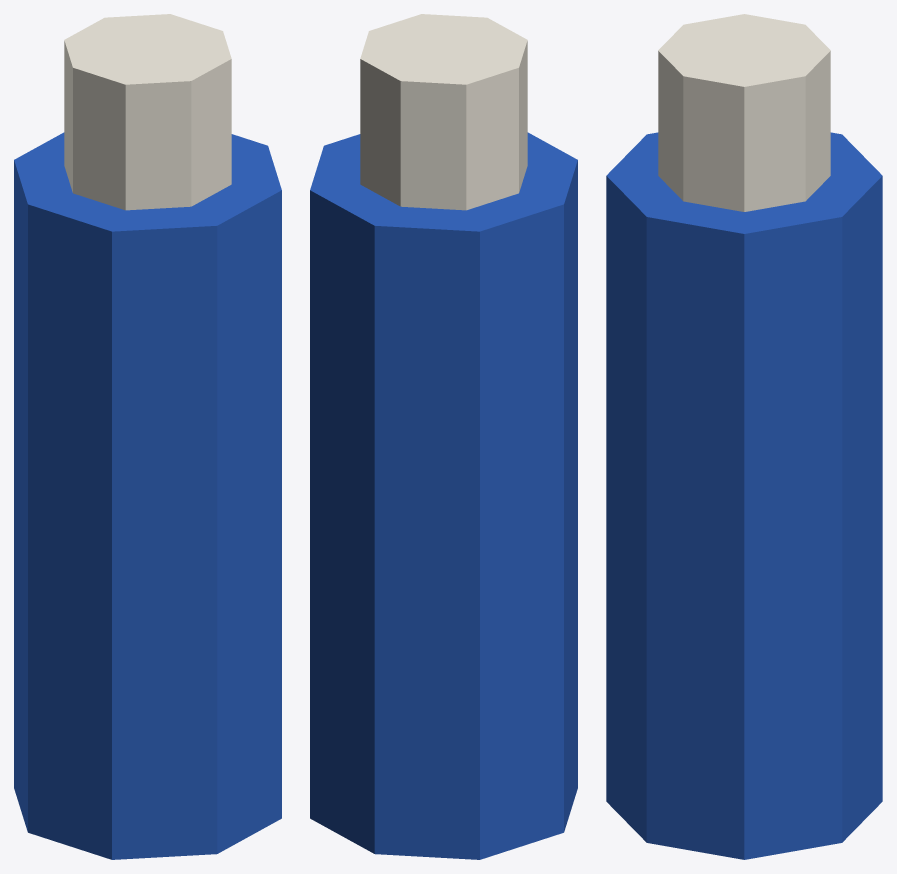
Rendered from water_bottle.fbx.
The picture shows the model from 3 angles, left to right: view 1: azimuth 30°, elevation 25°; view 2: azimuth 150°, elevation 25°; view 3: azimuth 270°, elevation 25°; orthographic projection.
Visible parts, largest first — view 1: water_bottle; view 2: water_bottle; view 3: water_bottle.
Boxes of the visible parts, x1,y1,x2,y2 form: water_bottle: (14,14,281,859); water_bottle: (310,14,577,859); water_bottle: (606,14,882,859).
Size of the model in its own units: 0.08 by 0.24 by 0.08.
